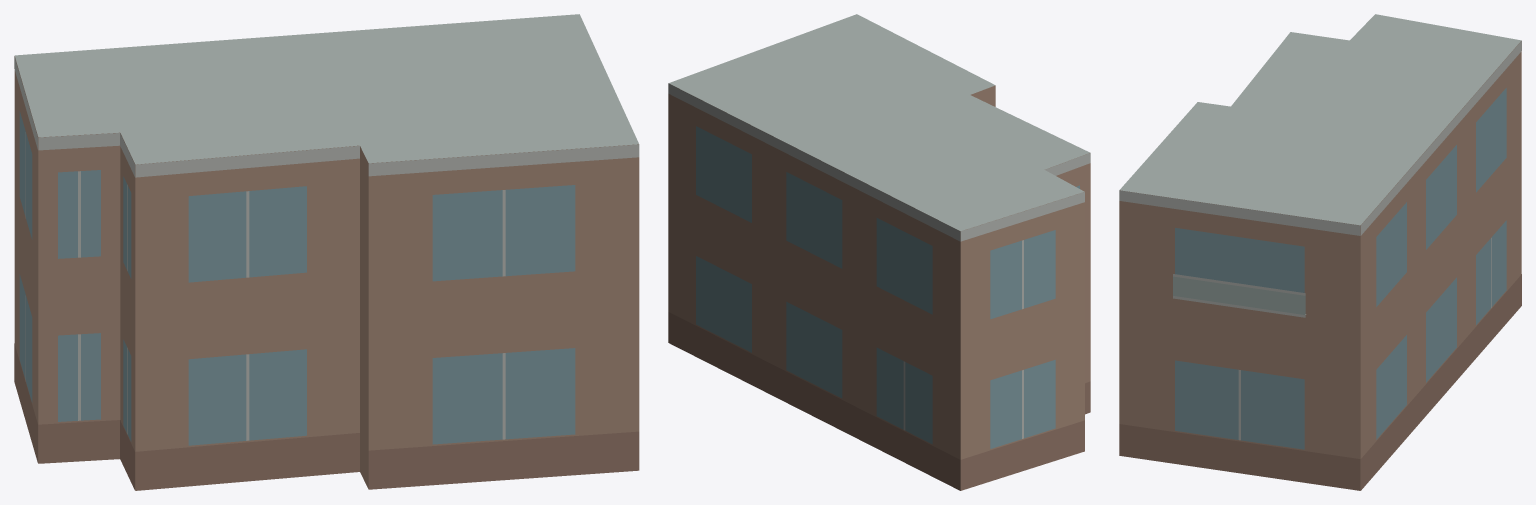
Rendered from survey-upis-32810667.glb.
The picture shows the model from 3 angles, left to right: view 1: azimuth 30°, elevation 25°; view 2: azimuth 150°, elevation 25°; view 3: azimuth 270°, elevation 25°; orthographic projection. The views are drawn at different scales.
Parts seen in each view (by area): view 1: survey-upis-32810667.tmp; view 2: survey-upis-32810667.tmp; view 3: survey-upis-32810667.tmp.
Boxes of the visible parts, x1=… form: survey-upis-32810667.tmp: x1=14, y1=14, x2=639, y2=490; survey-upis-32810667.tmp: x1=668, y1=14, x2=1090, y2=490; survey-upis-32810667.tmp: x1=1119, y1=14, x2=1521, y2=490.
Size of the model in its own units: 10.43 by 6.1 by 8.39.
